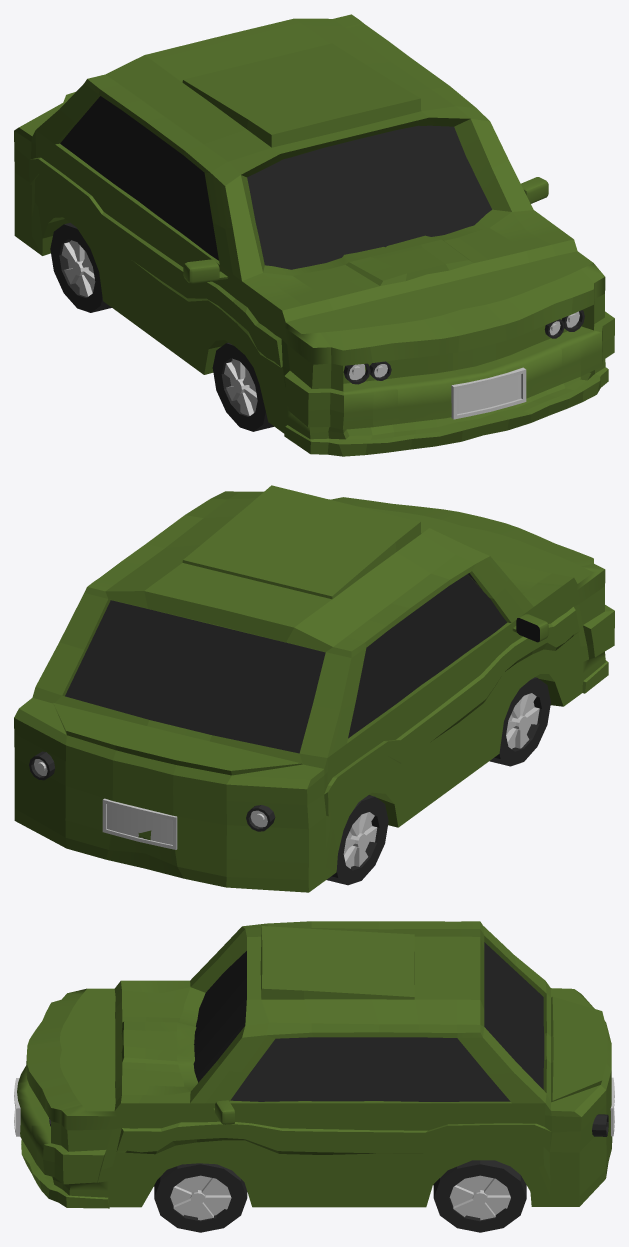
The model's file is car_1.fbx.
The picture shows the model from 3 angles, top to bottom: view 1: azimuth 30°, elevation 25°; view 2: azimuth 150°, elevation 25°; view 3: azimuth 270°, elevation 25°; orthographic projection. The views are drawn at different scales.
Parts seen in each view (by area): view 1: car_base, glass_front, glass_right, pPipe5 (×2), front_plate, pCylinder12 (×2), mirror, lamp_big, lamp_small; view 2: car_base, glass_behind, glass_right, pPipe5 (×2), back_plate, pCylinder12 (×2), lamp_big1, mirror; view 3: car_base, glass_left, pPipe5 (×2), glass_behind, glass_front, pCylinder12 (×2).
Boxes of the visible parts, bbox=[...] form: car_base: bbox=[14, 14, 614, 456]; glass_front: bbox=[247, 125, 491, 269]; glass_right: bbox=[60, 96, 218, 260]; pPipe5 (×2): bbox=[50, 222, 273, 431]; front_plate: bbox=[451, 367, 526, 419]; pCylinder12 (×2): bbox=[61, 240, 257, 415]; mirror: bbox=[183, 177, 548, 283]; lamp_big: bbox=[343, 310, 584, 384]; lamp_small: bbox=[369, 319, 564, 380]; car_base: bbox=[14, 485, 614, 892]; glass_behind: bbox=[65, 600, 325, 753]; glass_right: bbox=[348, 574, 506, 738]; pPipe5 (×2): bbox=[326, 677, 550, 885]; back_plate: bbox=[102, 798, 177, 849]; pCylinder12 (×2): bbox=[343, 693, 539, 868]; lamp_big1: bbox=[29, 751, 275, 831]; mirror: bbox=[512, 614, 548, 642]; car_base: bbox=[17, 921, 612, 1208]; glass_left: bbox=[230, 1037, 510, 1101]; pPipe5 (×2): bbox=[154, 1160, 526, 1232]; glass_behind: bbox=[484, 942, 544, 1089]; glass_front: bbox=[193, 951, 246, 1082]; pCylinder12 (×2): bbox=[170, 1175, 510, 1220].
Size of the model in its own units: 163 by 108 by 274.
